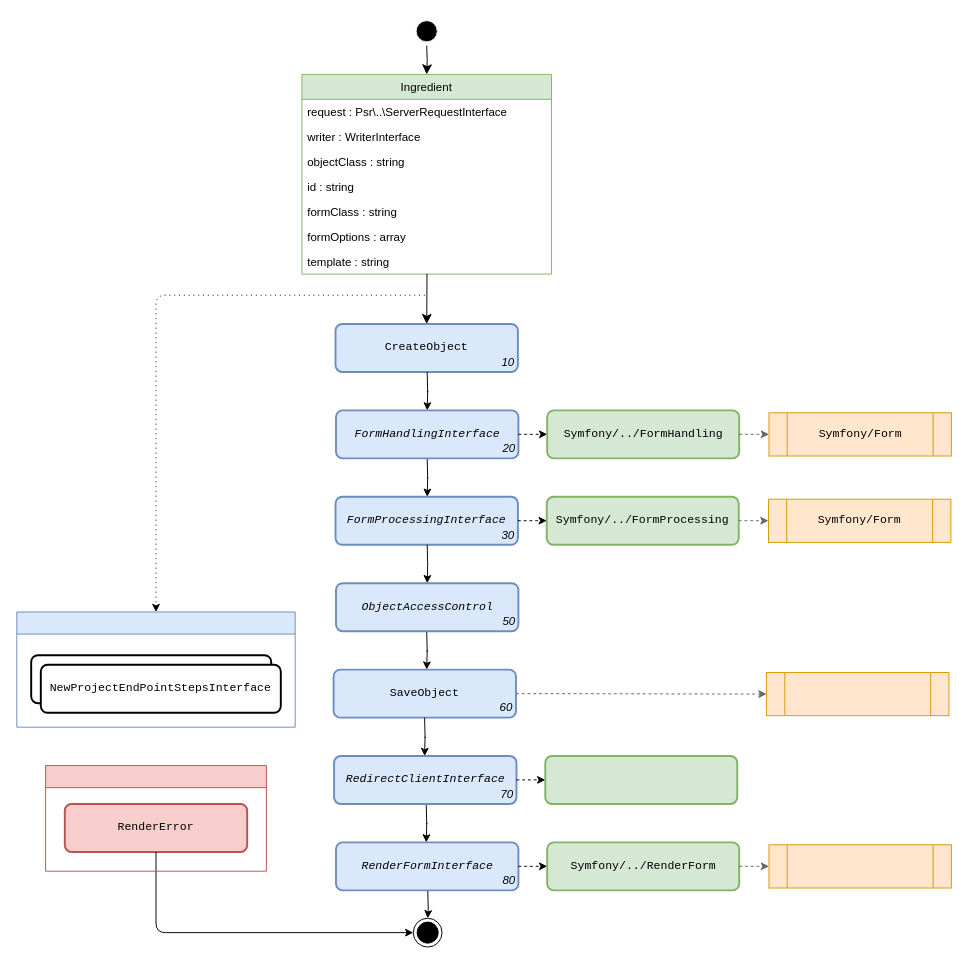
The diagram is 969 pixels wide and 964 high, and some of its shapes have lost their labels. Here are the shapes that lost their labels. From the top down, the centre of each, then its label:
the point at 155,669: To extends, add step in
the point at 857,694: ProjectWriter
the point at 641,779: Symfony/../RedirectClient
the point at 155,818: On Error
the point at 859,866: Symfony/Twig
